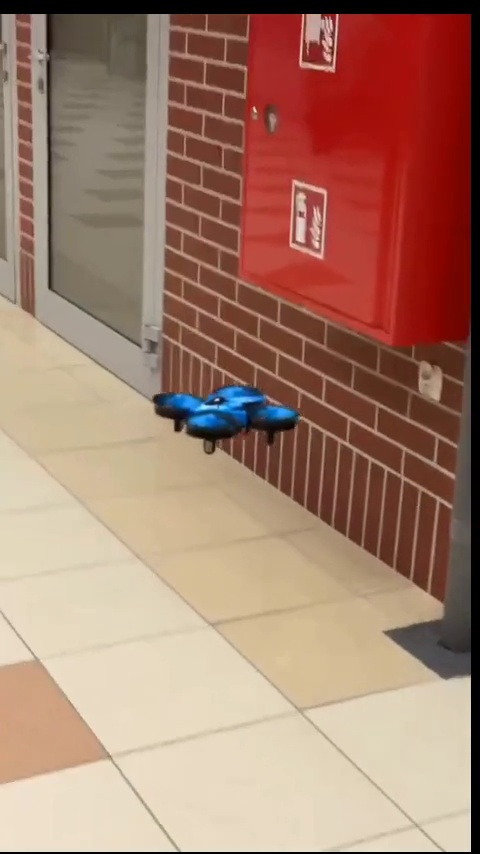drone: (157, 377, 299, 453)
